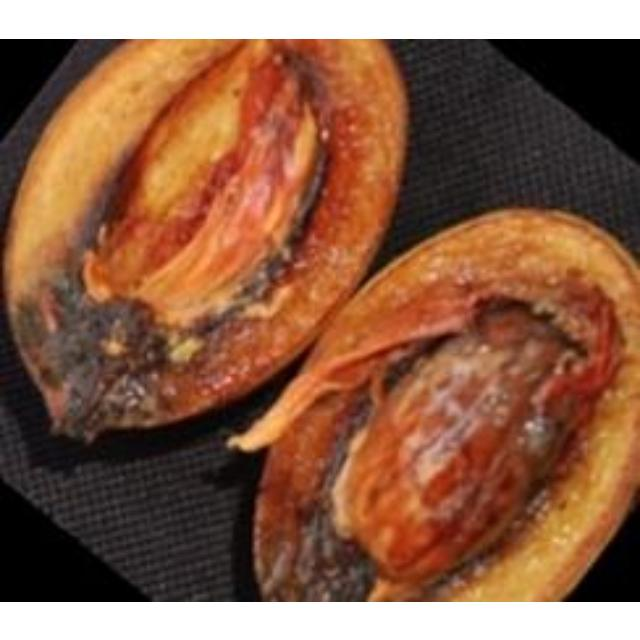damaged: (0, 38, 412, 447), (226, 208, 637, 599)
